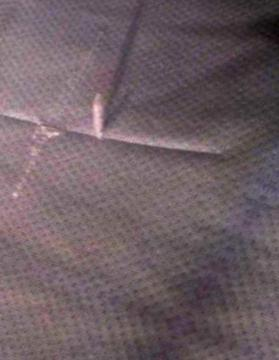snag: (80, 88, 125, 150)
